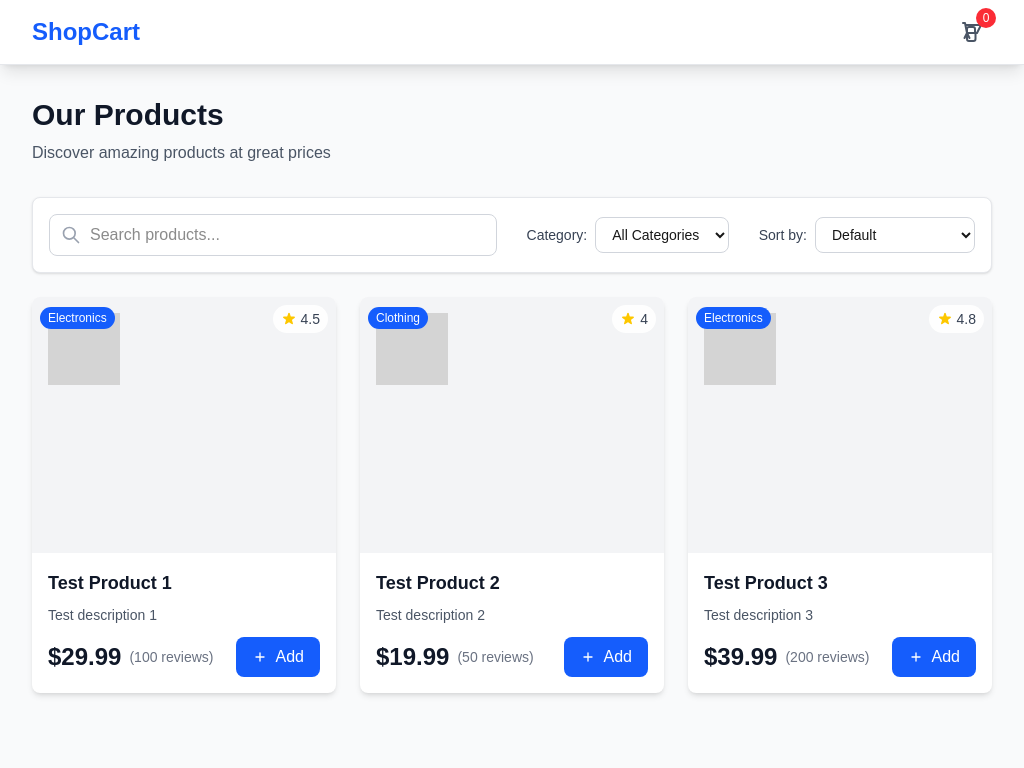
Test: Home Page › searches products by title
Check: the heading "Test Product 1" is shown, box left=48, top=573, right=172, bottom=593
Type "Product 1" into the field with placeholder "Search products..." at coordinates (273, 235), box left=49, top=214, right=497, bottom=256
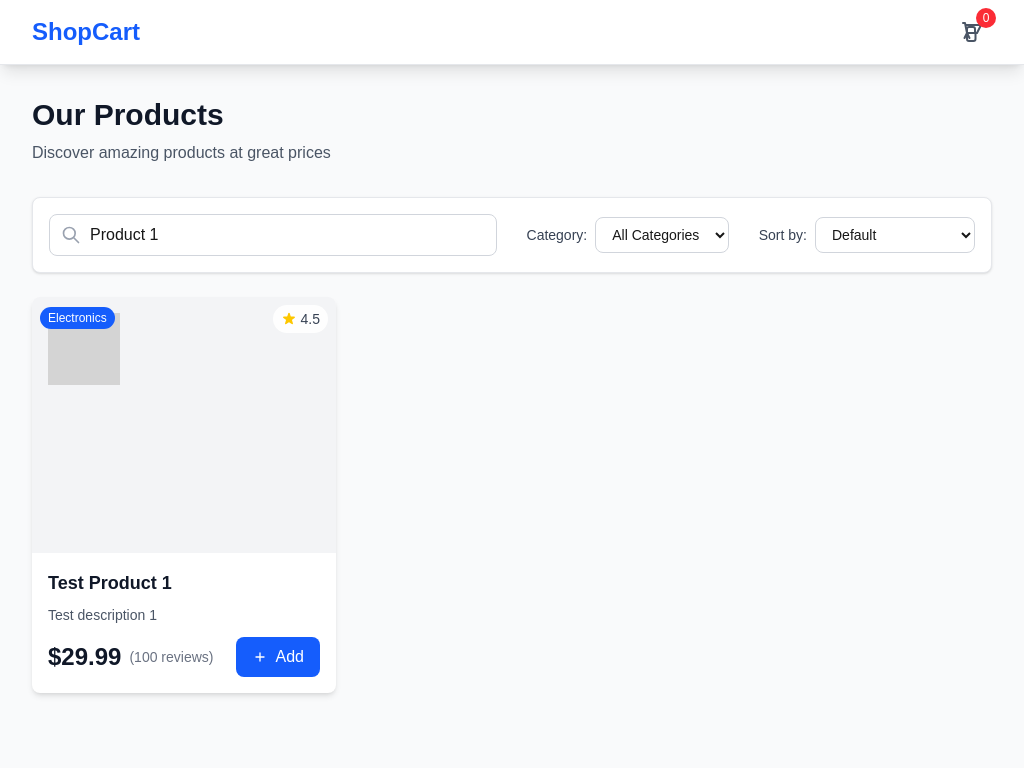
Check: the heading "Test Product 1" is shown, box left=48, top=573, right=172, bottom=593
Check: the link "Test Product 2" is gone
Check: the link "Test Product 3" is gone
